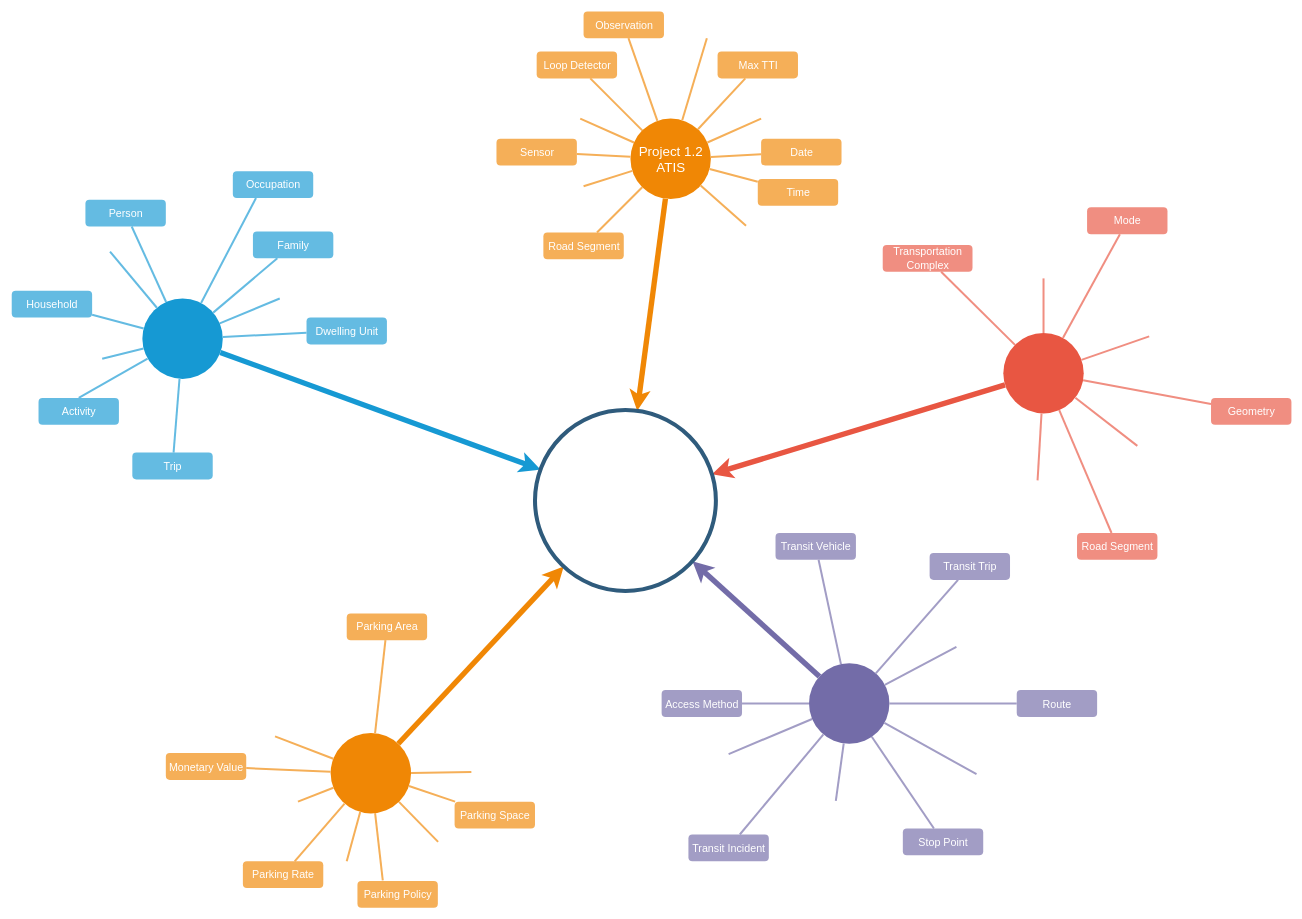
Image size: 1302x919. Some labels were removed from this diagram. Here are the shapes that lost their labels. From the top down, the box of each, then its label:
(142, 298, 222, 379): Project 2.4 ILUTE
(1003, 333, 1083, 413): Project 2.1 Complete Streets
(533, 408, 718, 593): iCity TPSO
(809, 663, 889, 743): Project 2.3 Transit
(330, 733, 411, 813): Project 2.2 Parking
